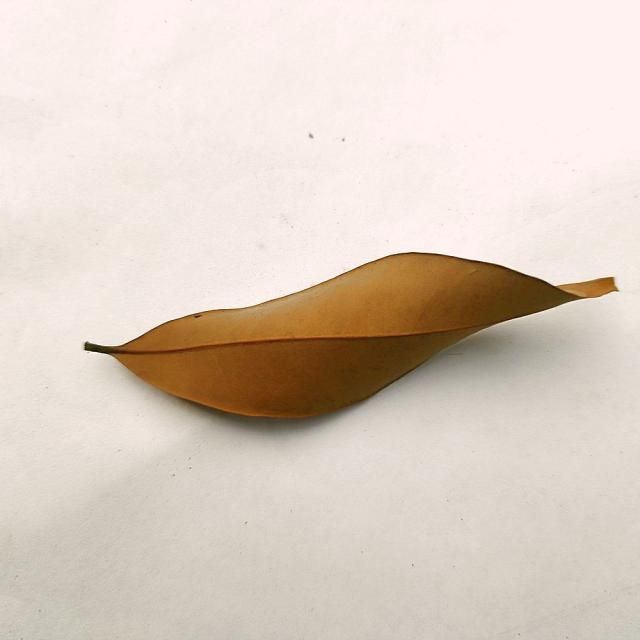Dry_Leaf-Lychee: (83, 253, 619, 422)
